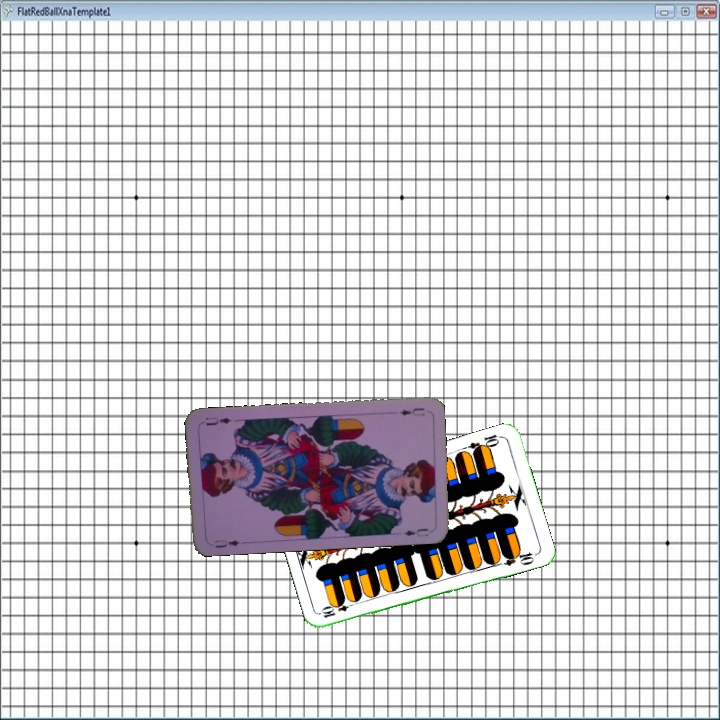E10: (465, 430, 505, 456), (318, 597, 358, 620)
EU: (211, 535, 242, 550), (395, 404, 427, 418)
